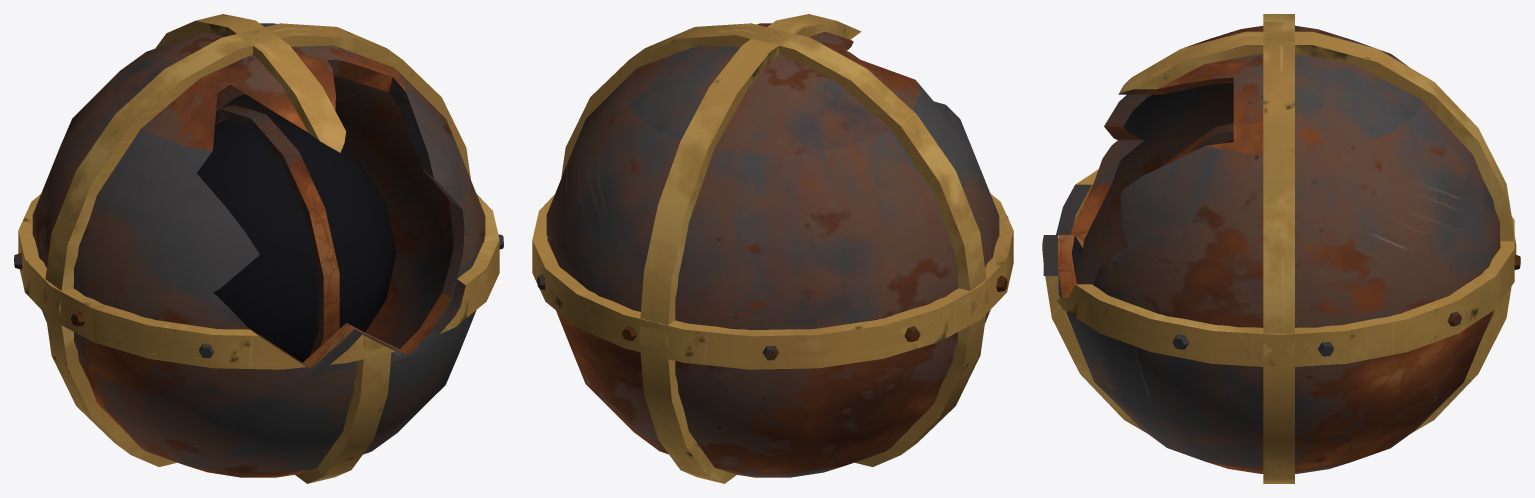
Rendered from Dead_Core_Shell.glb.
3 renders of one model, left to right at view 1: azimuth 30°, elevation 25°; view 2: azimuth 150°, elevation 25°; view 3: azimuth 270°, elevation 25°, orthographic.
Parts seen in each view (by area): view 1: Dead_Core_Shell; view 2: Dead_Core_Shell; view 3: Dead_Core_Shell.
Boxes of the visible parts, x1,y1,x2,y2 form: Dead_Core_Shell: (14,14,503,483); Dead_Core_Shell: (532,14,1013,483); Dead_Core_Shell: (1042,14,1520,483).
Bounding box in the file's own units: 0.5261 × 0.4783 × 0.5271.
7 materials, 5 textured.
